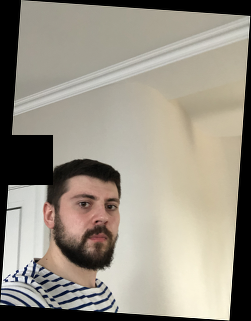without_mask: (63, 185, 120, 272)
